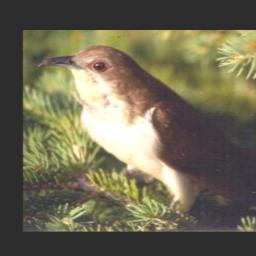Cuckoo: (37, 43, 256, 215)
